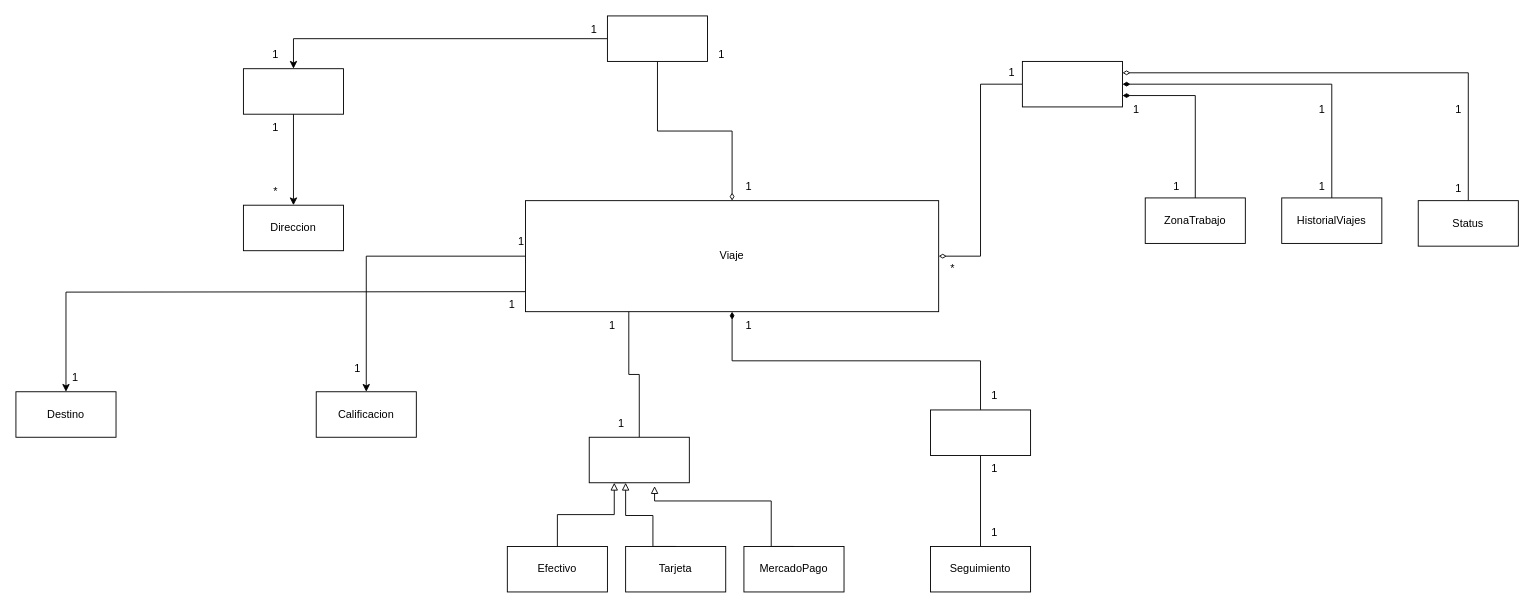
Some shapes in this 1534 by 608 pixel diagram are drawn without their labels. Each missing label, with the centre of its shape:
Chofer: the point at 1071,84
EstadoViaje: the point at 980,432
ListadoDirecciones: the point at 293,91
Pago: the point at 638,459
Pasajero: the point at 657,38
